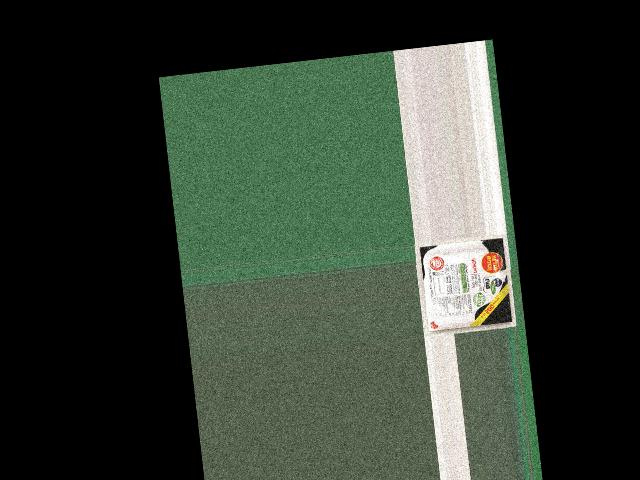cheese: (421, 237, 510, 335)
